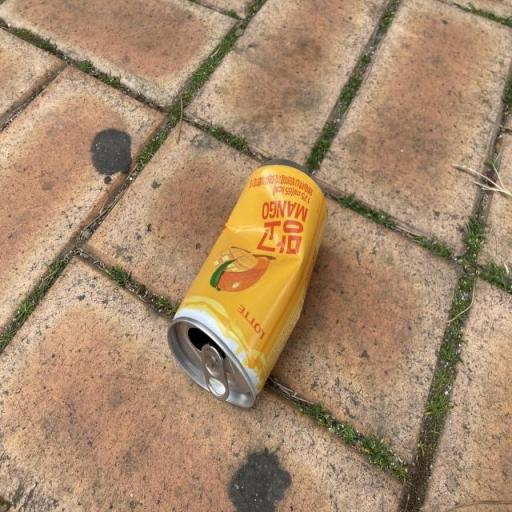metal: (162, 147, 345, 418)
